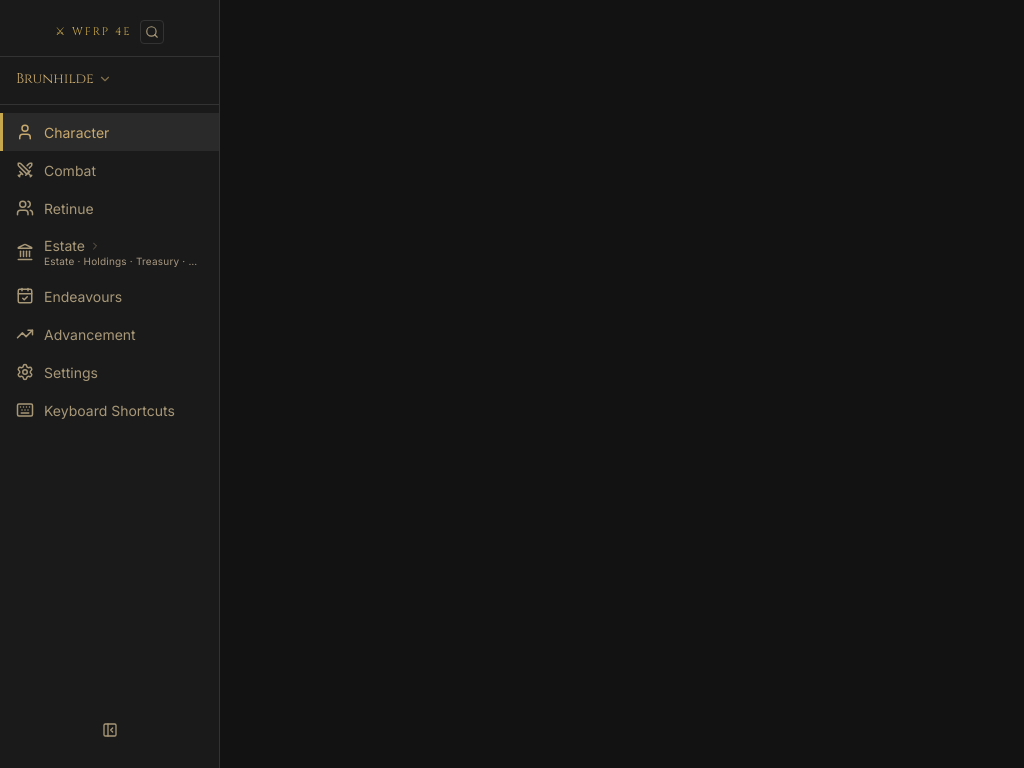
it: Navigation delete confirmation › clicking delete on the active character opens ConfirmDialog with the active character name
What coordinates should you click on to do the following:
click the button titled "Switch character"
I would click on:
 (64, 78)
Its box is [16, 69, 112, 88].
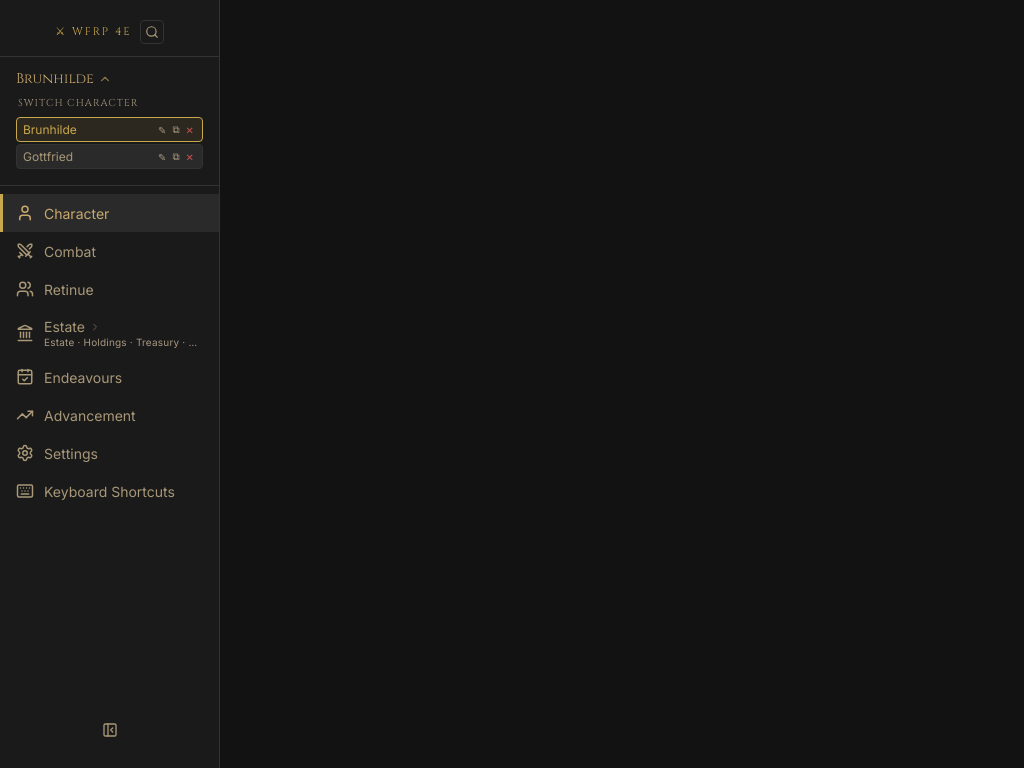
What coordinates should you click on to do the following:
click the 1st button titled "Delete"
I would click on:
 (190, 130)
Its box is [184, 124, 196, 136].
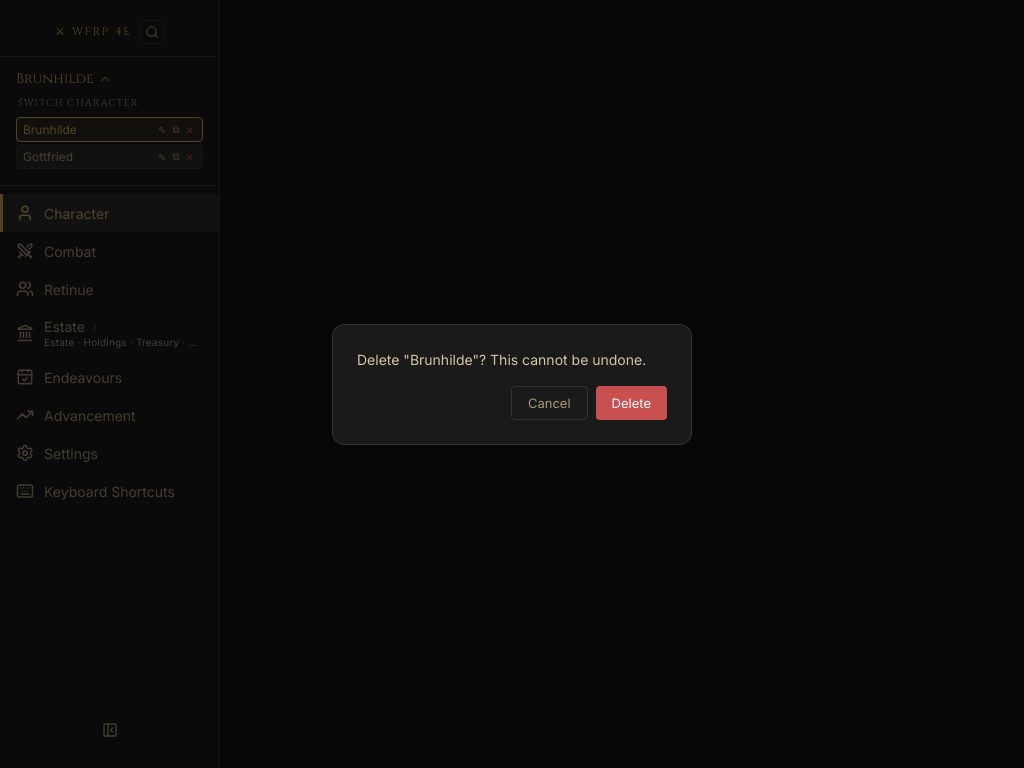
Expected: the dialog is shown
Expected: the dialog shows "Delete \"Brunhilde\"? This cannot be undone.", [357, 350, 646, 368]
